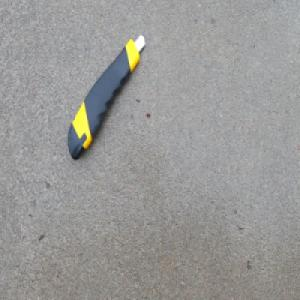Cutter: (67, 32, 146, 161)
